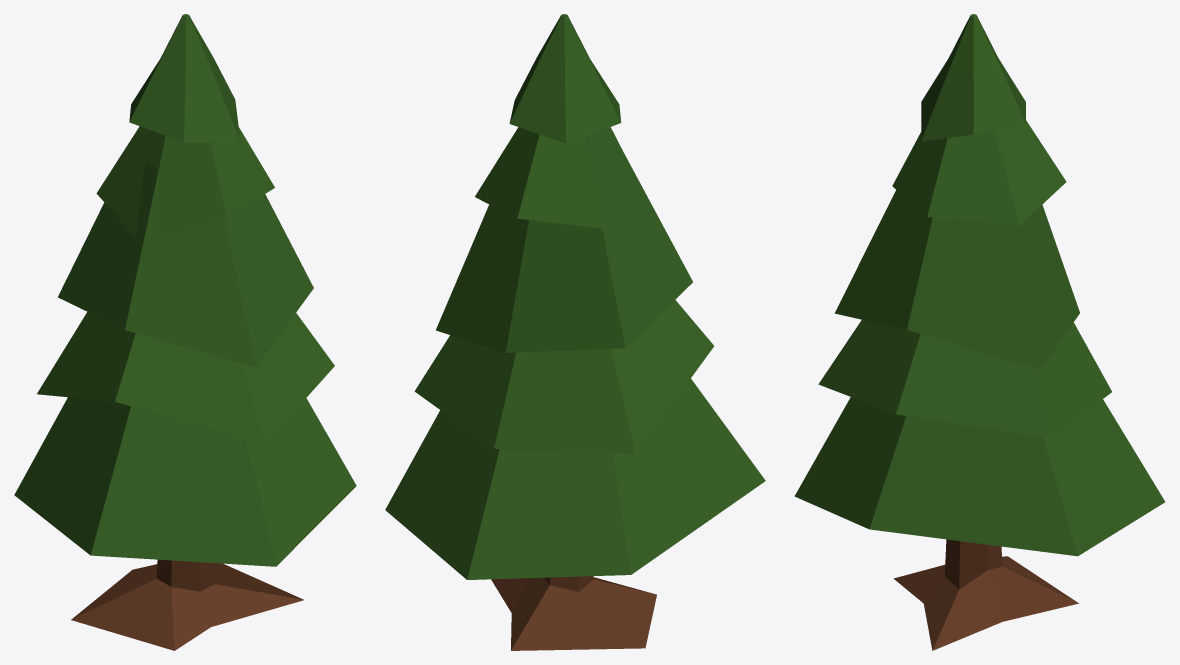
Rendered from Tree#2.fbx.
3 views of the same model, side by side, from view 1: azimuth 30°, elevation 25°; view 2: azimuth 150°, elevation 25°; view 3: azimuth 270°, elevation 25° (orthographic).
Visible parts, largest first — view 1: Tree#2; view 2: Tree#2; view 3: Tree#2.
Boxes of the visible parts, x1=… form: Tree#2: x1=14, y1=14, x2=356, y2=650; Tree#2: x1=385, y1=14, x2=765, y2=650; Tree#2: x1=794, y1=14, x2=1165, y2=650.
Bounding box in the file's own units: 638 × 1323 × 756.
